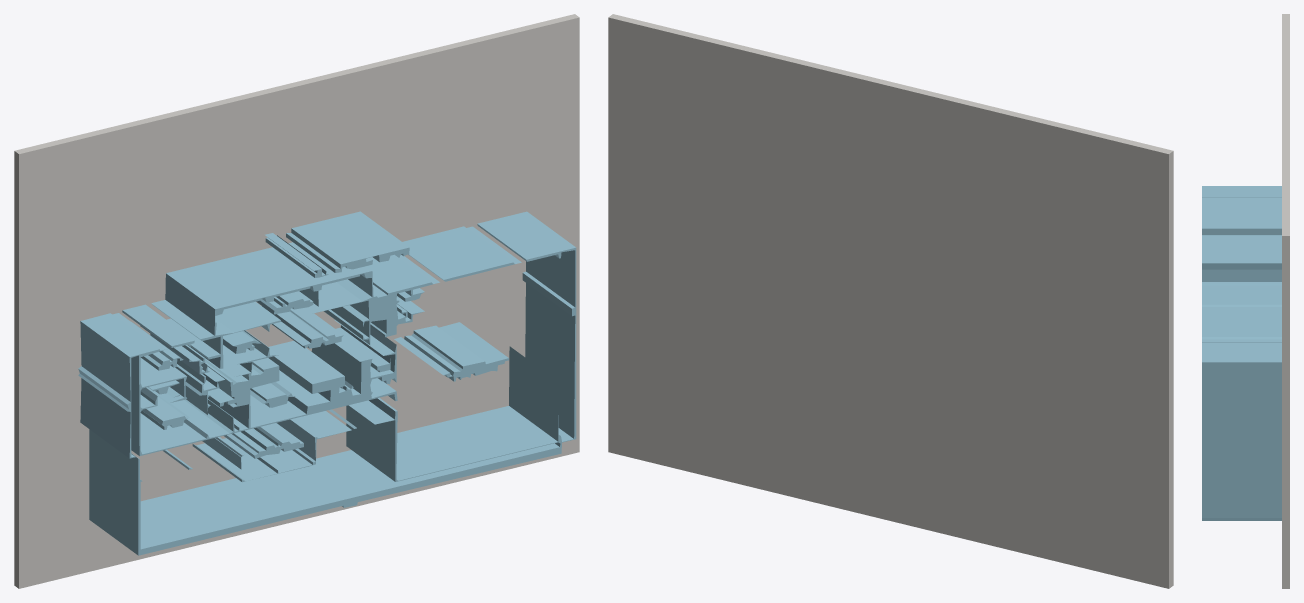
The picture shows the model from 3 angles, left to right: view 1: azimuth 30°, elevation 25°; view 2: azimuth 150°, elevation 25°; view 3: azimuth 270°, elevation 25°; orthographic projection. The views are drawn at different scales.
Visible parts, largest first — view 1: world; view 2: world; view 3: world.
Boxes of the visible parts, <box> form: world: <box>14,14,579,588</box>; world: <box>608,14,1173,588</box>; world: <box>1202,14,1289,588</box>.
Size of the model in its own units: 10.23 by 7.58 by 1.71.
